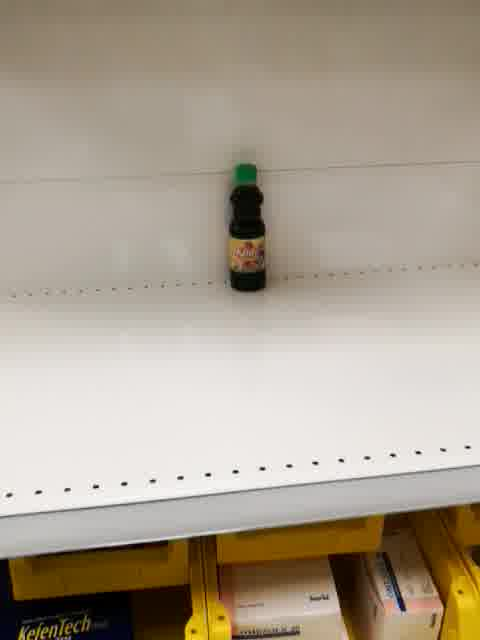cookingoil: (226, 161, 269, 294)
